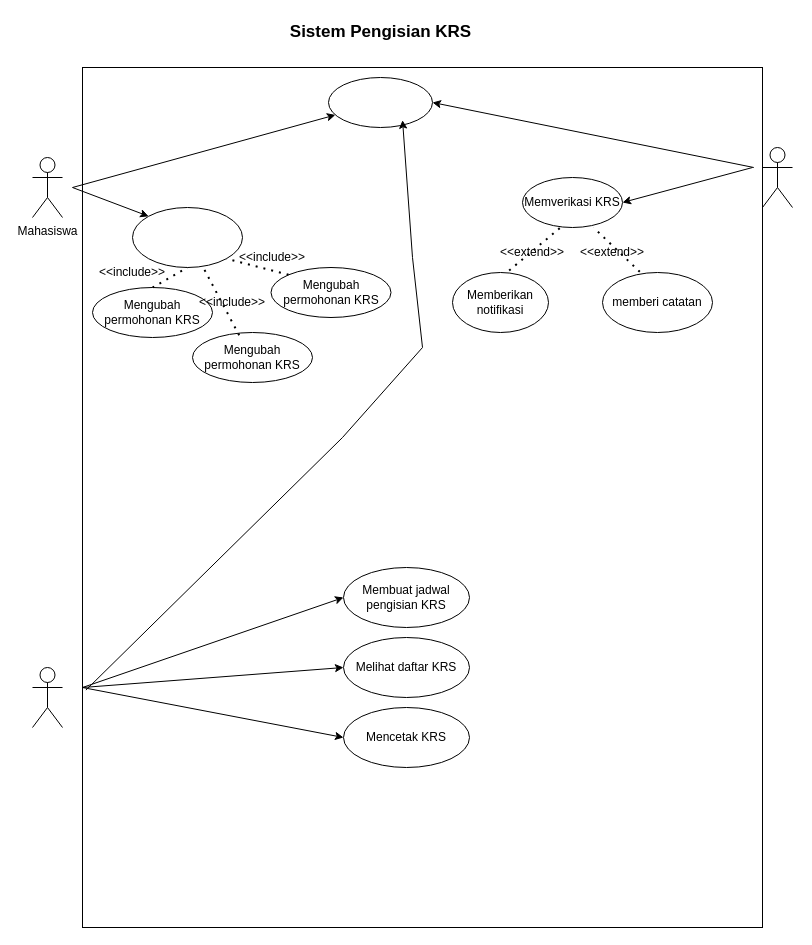
Image size: 812x945. Some labels were removed from this diagram. Here are the shapes that lost their labels. From the top down, the centre of each, then its label:
At (x=380, y=102): "Login".
At (x=777, y=177): "Dosen".
At (x=187, y=237): "Mengisi KRS".
At (x=47, y=697): "Admin".
